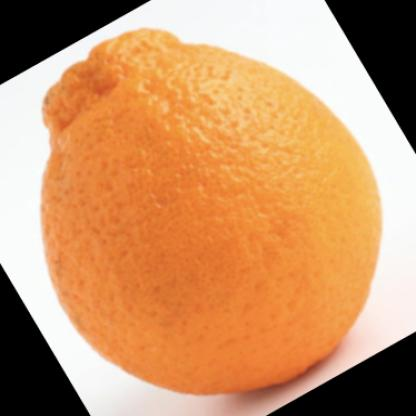fresh: (39, 28, 382, 397)
